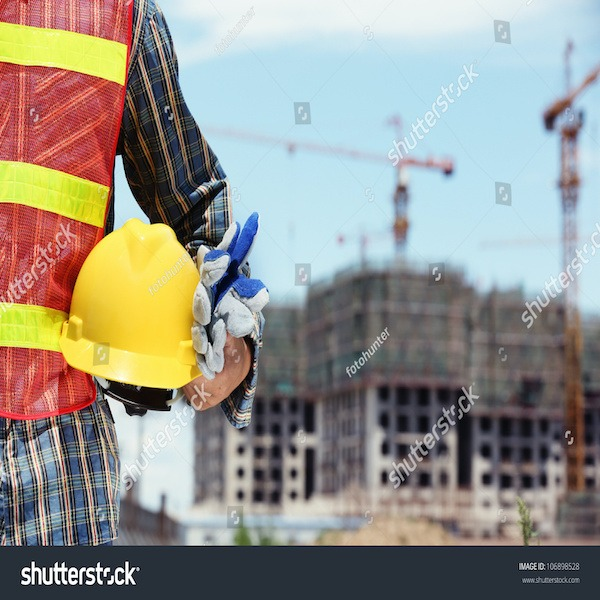helmet: (66, 235, 204, 380)
vest: (2, 9, 134, 233)
